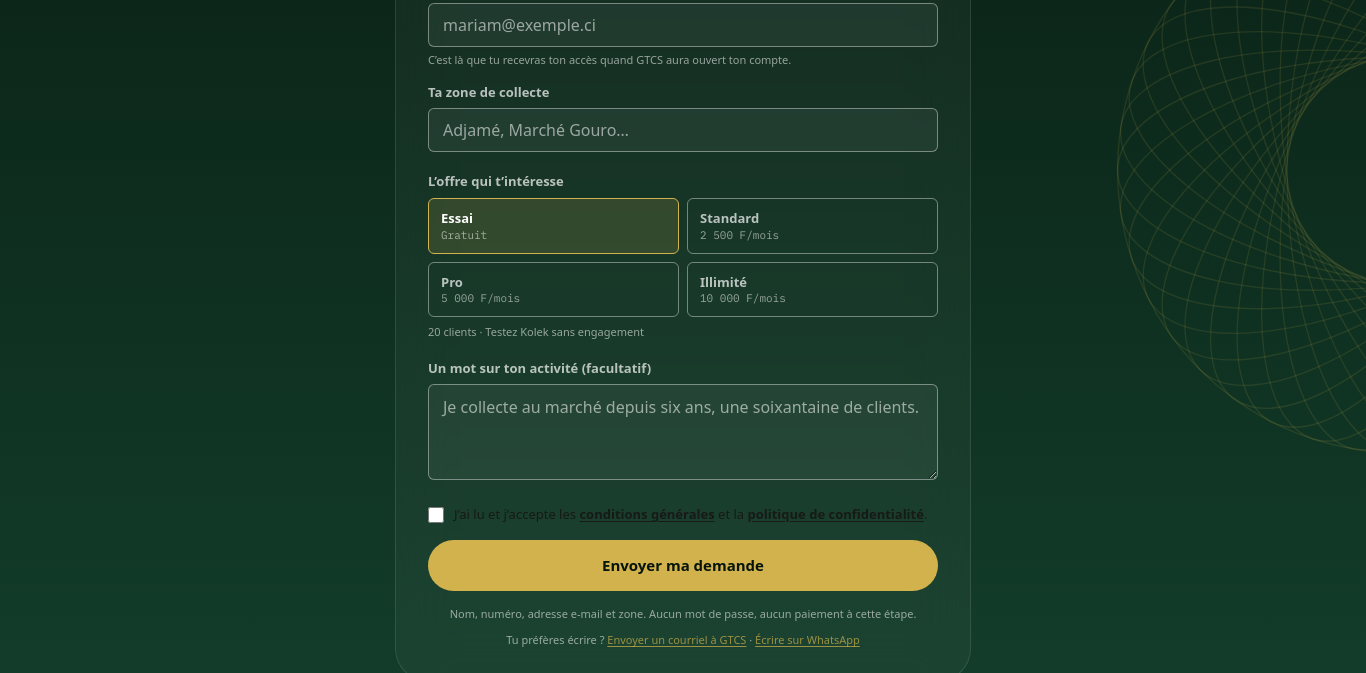
le palier payant : payer vaut accord › cesse de promettre « aucun mot de passe, aucun paiement »
This screenshot has width=1366, height=673.
(page scrolled)
Expected: the text "Aucun mot de passe" is shown, x1=450 y1=606 x2=916 y2=620
Click the button "Pro 5 000 F/mois" at coordinates (554, 289), box x1=428 y1=262 x2=679 y2=317
(page scrolled)
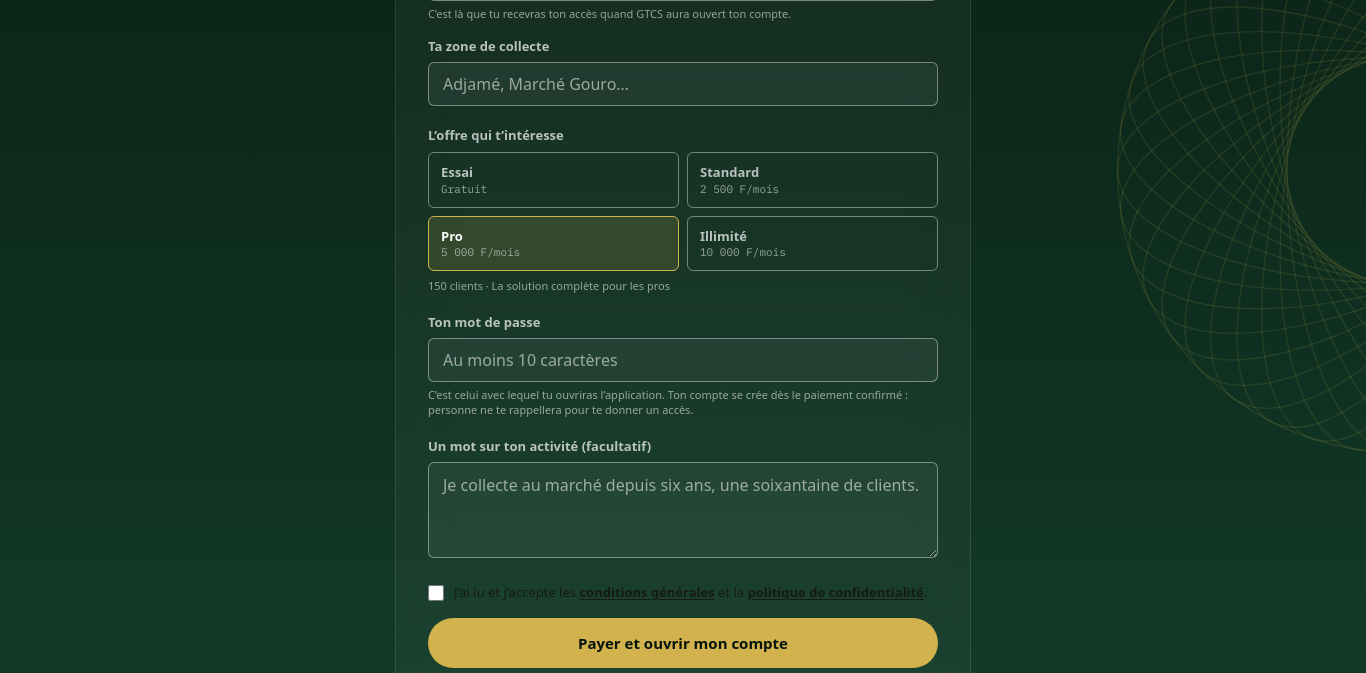
Now the text "Aucun mot de passe" is gone
